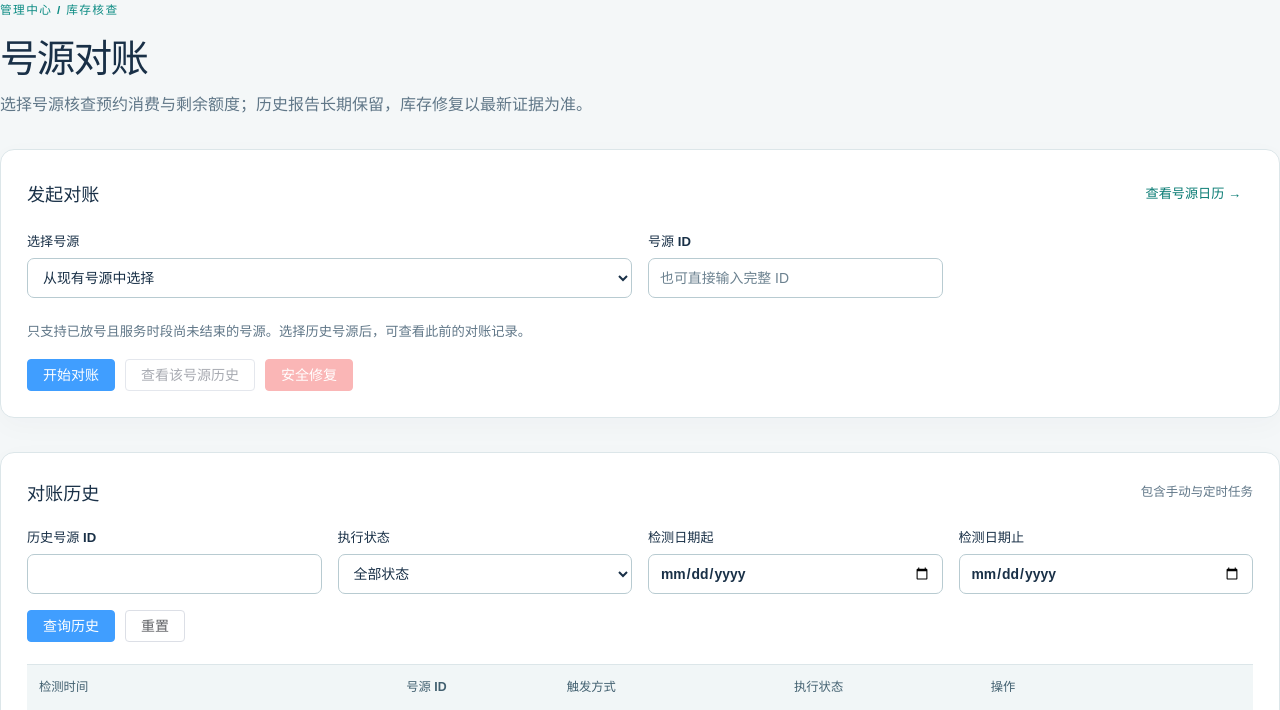
Scenario: administrator reconciliation › never enables repair from an old report even when its saved flag permits it
Step 1. Type "123" into the field with placeholder "也可直接输入完整 ID" → (795, 278), box [648,258,942,298]
(page scrolled)
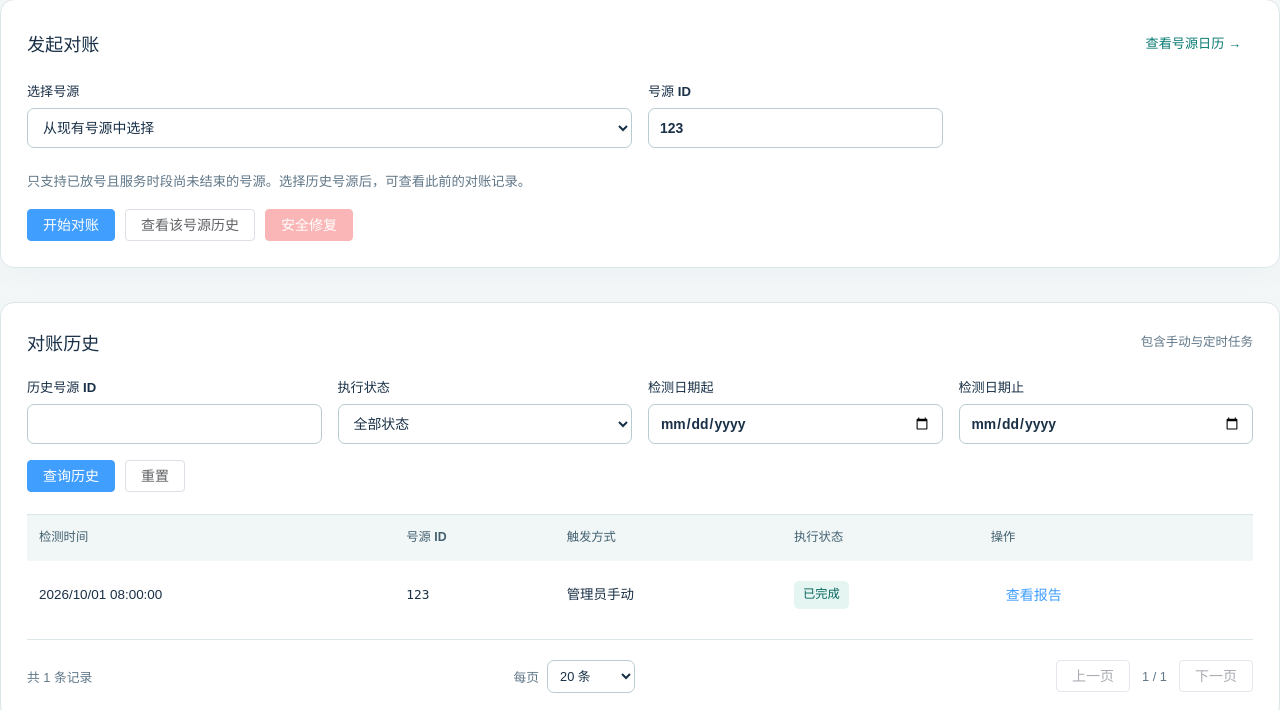
Step 2. Click the button "查看报告" → (1034, 595), box [991,579,1077,611]
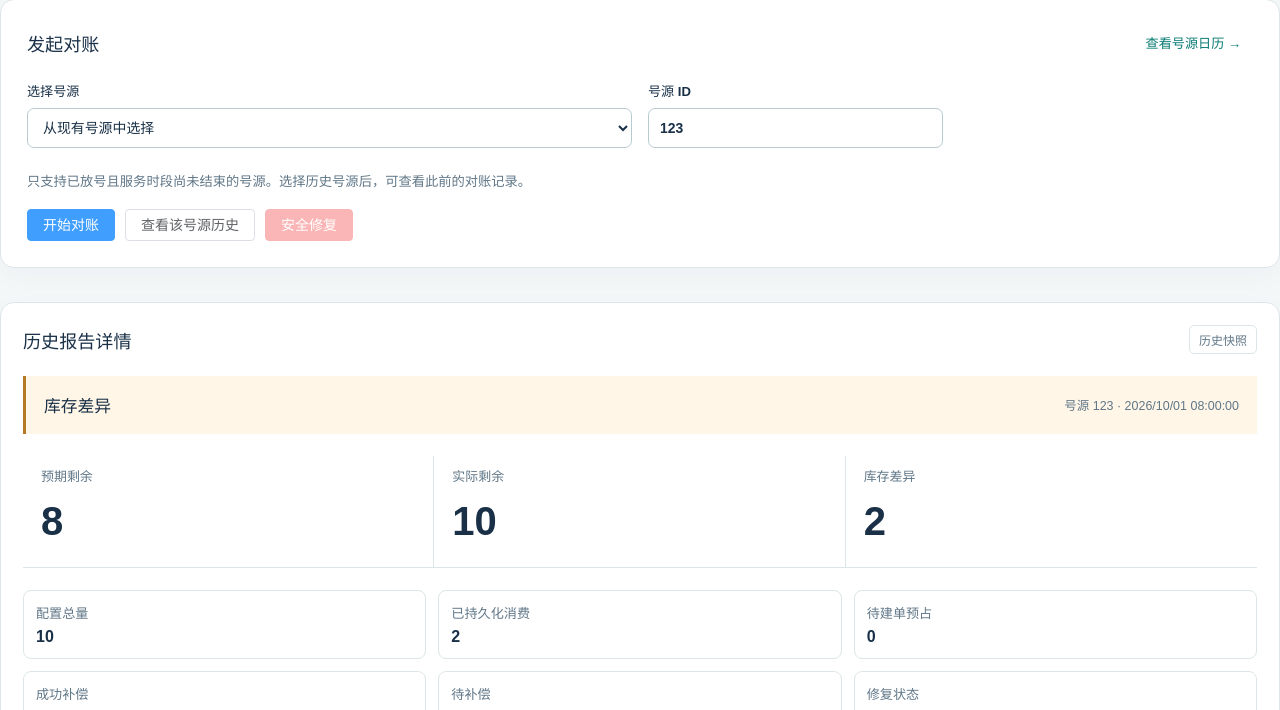
Expected: the button "安全修复" is disabled, [265,209,353,241]
Now the text "历史快照" is shown, box [1189,325,1257,354]
